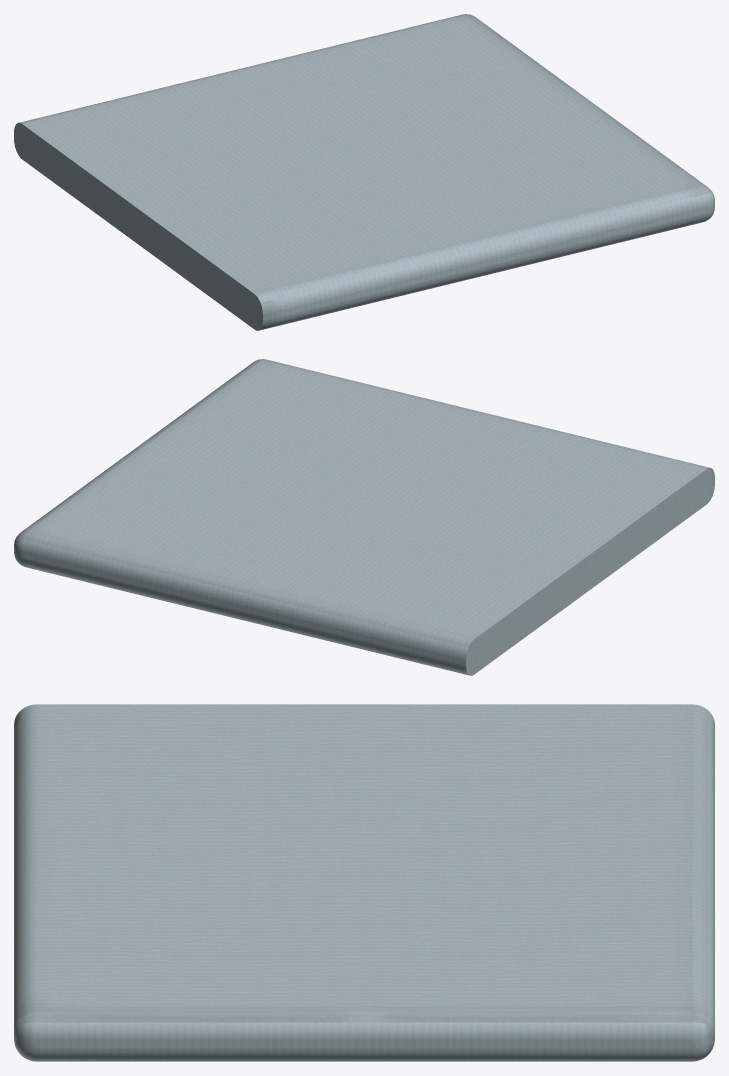
The model's file is 22-deep-lunch-tin-lid-2.fbx.
3 renders of one model, top to bottom at view 1: azimuth 30°, elevation 25°; view 2: azimuth 150°, elevation 25°; view 3: azimuth 270°, elevation 25°, orthographic. The views are drawn at different scales.
Visible parts, largest first — view 1: deep-lunch-tin-lid-2; view 2: deep-lunch-tin-lid-2; view 3: deep-lunch-tin-lid-2.
Part boxes in pixels (x1,y1,x2,y2): deep-lunch-tin-lid-2: (14, 14, 714, 330); deep-lunch-tin-lid-2: (14, 359, 714, 675); deep-lunch-tin-lid-2: (14, 704, 714, 1061).
Bounding box in the file's own units: 8500 × 630 × 8000.
Materials: 1 (1 with a texture image).
